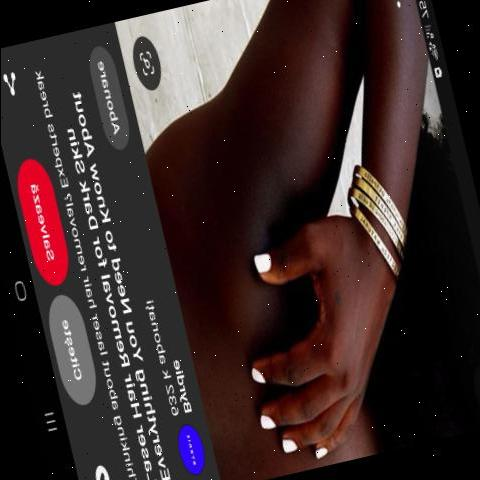Hands: (224, 207, 410, 458)
